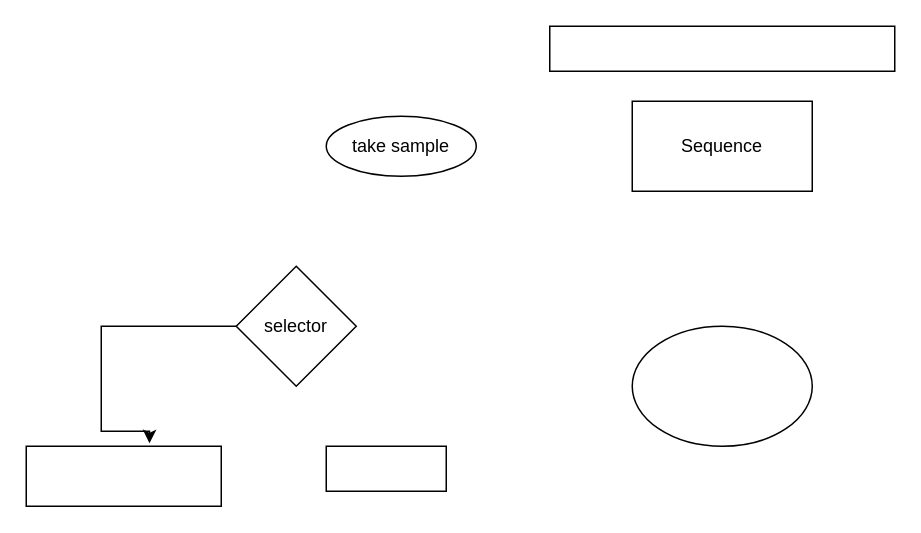
This 921x533 diagram has some shape labels left out. Here are the shapes that lost their labels. From the top down, the centre of each, then its label:
At (721,48): "Autonomus".
At (123,475): "IS_SAMPLE_TAKEN".
